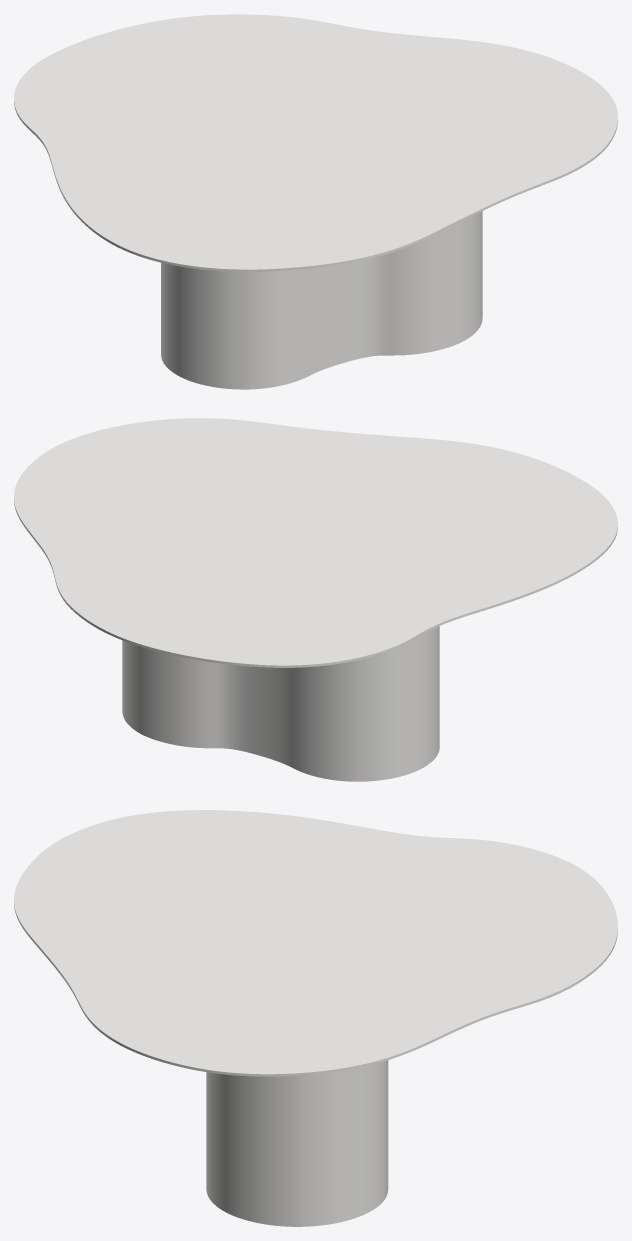
Rendered from purewhite_topone_facet_riverwave.glb.
The picture shows the model from 3 angles, top to bottom: view 1: azimuth 30°, elevation 25°; view 2: azimuth 150°, elevation 25°; view 3: azimuth 270°, elevation 25°; orthographic projection. The views are drawn at different scales.
Parts seen in each view (by area): view 1: facet_topone, riverwave; view 2: facet_topone, riverwave; view 3: facet_topone, riverwave.
Boxes of the visible parts, bbox=[...] form: facet_topone: bbox=[14, 14, 617, 271]; riverwave: bbox=[161, 211, 482, 389]; facet_topone: bbox=[14, 418, 617, 667]; riverwave: bbox=[122, 626, 439, 781]; facet_topone: bbox=[14, 810, 617, 1076]; riverwave: bbox=[206, 1060, 388, 1226].
Size of the model in its own units: 6.83 by 2.5 by 6.6.
Materials: 1 (1 with a texture image).
